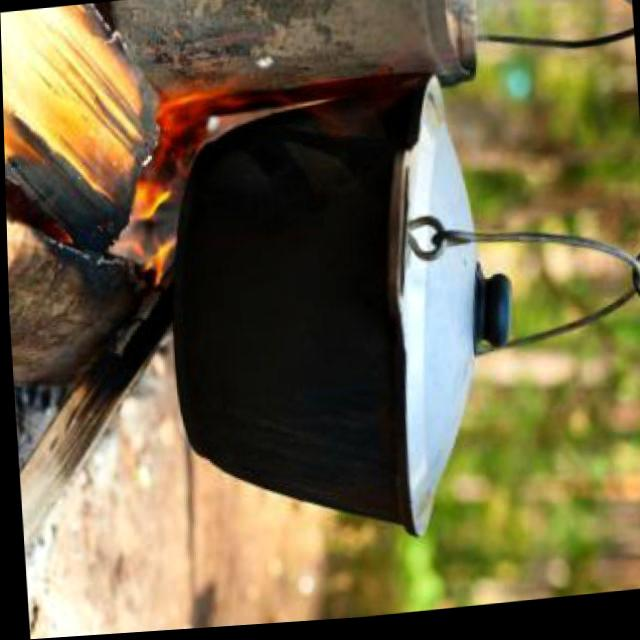fire: (113, 58, 250, 282)
